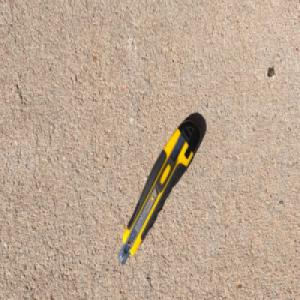Cutter: (117, 117, 203, 269)
